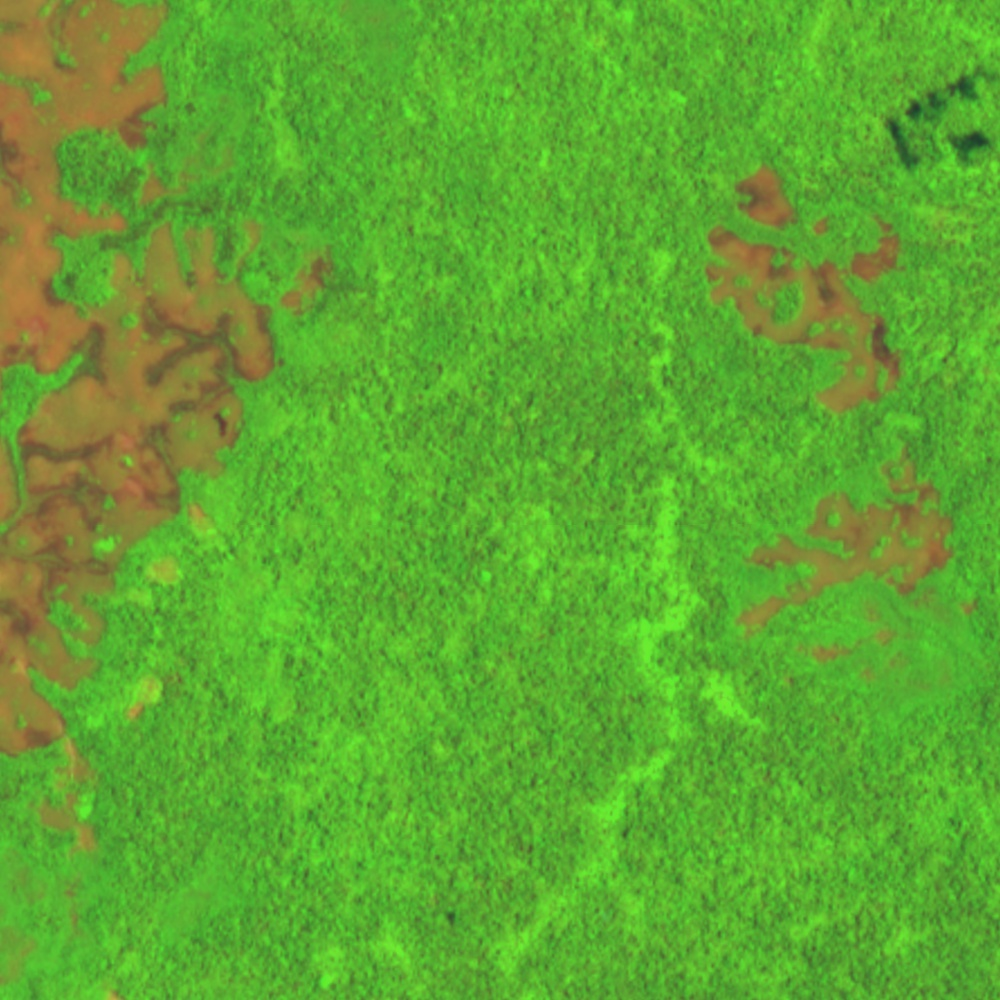legal: (1, 1, 280, 761), (702, 157, 907, 415), (738, 445, 959, 664), (33, 738, 103, 850), (279, 241, 340, 316)
